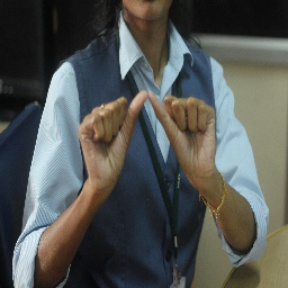A: (100, 84, 198, 186)
